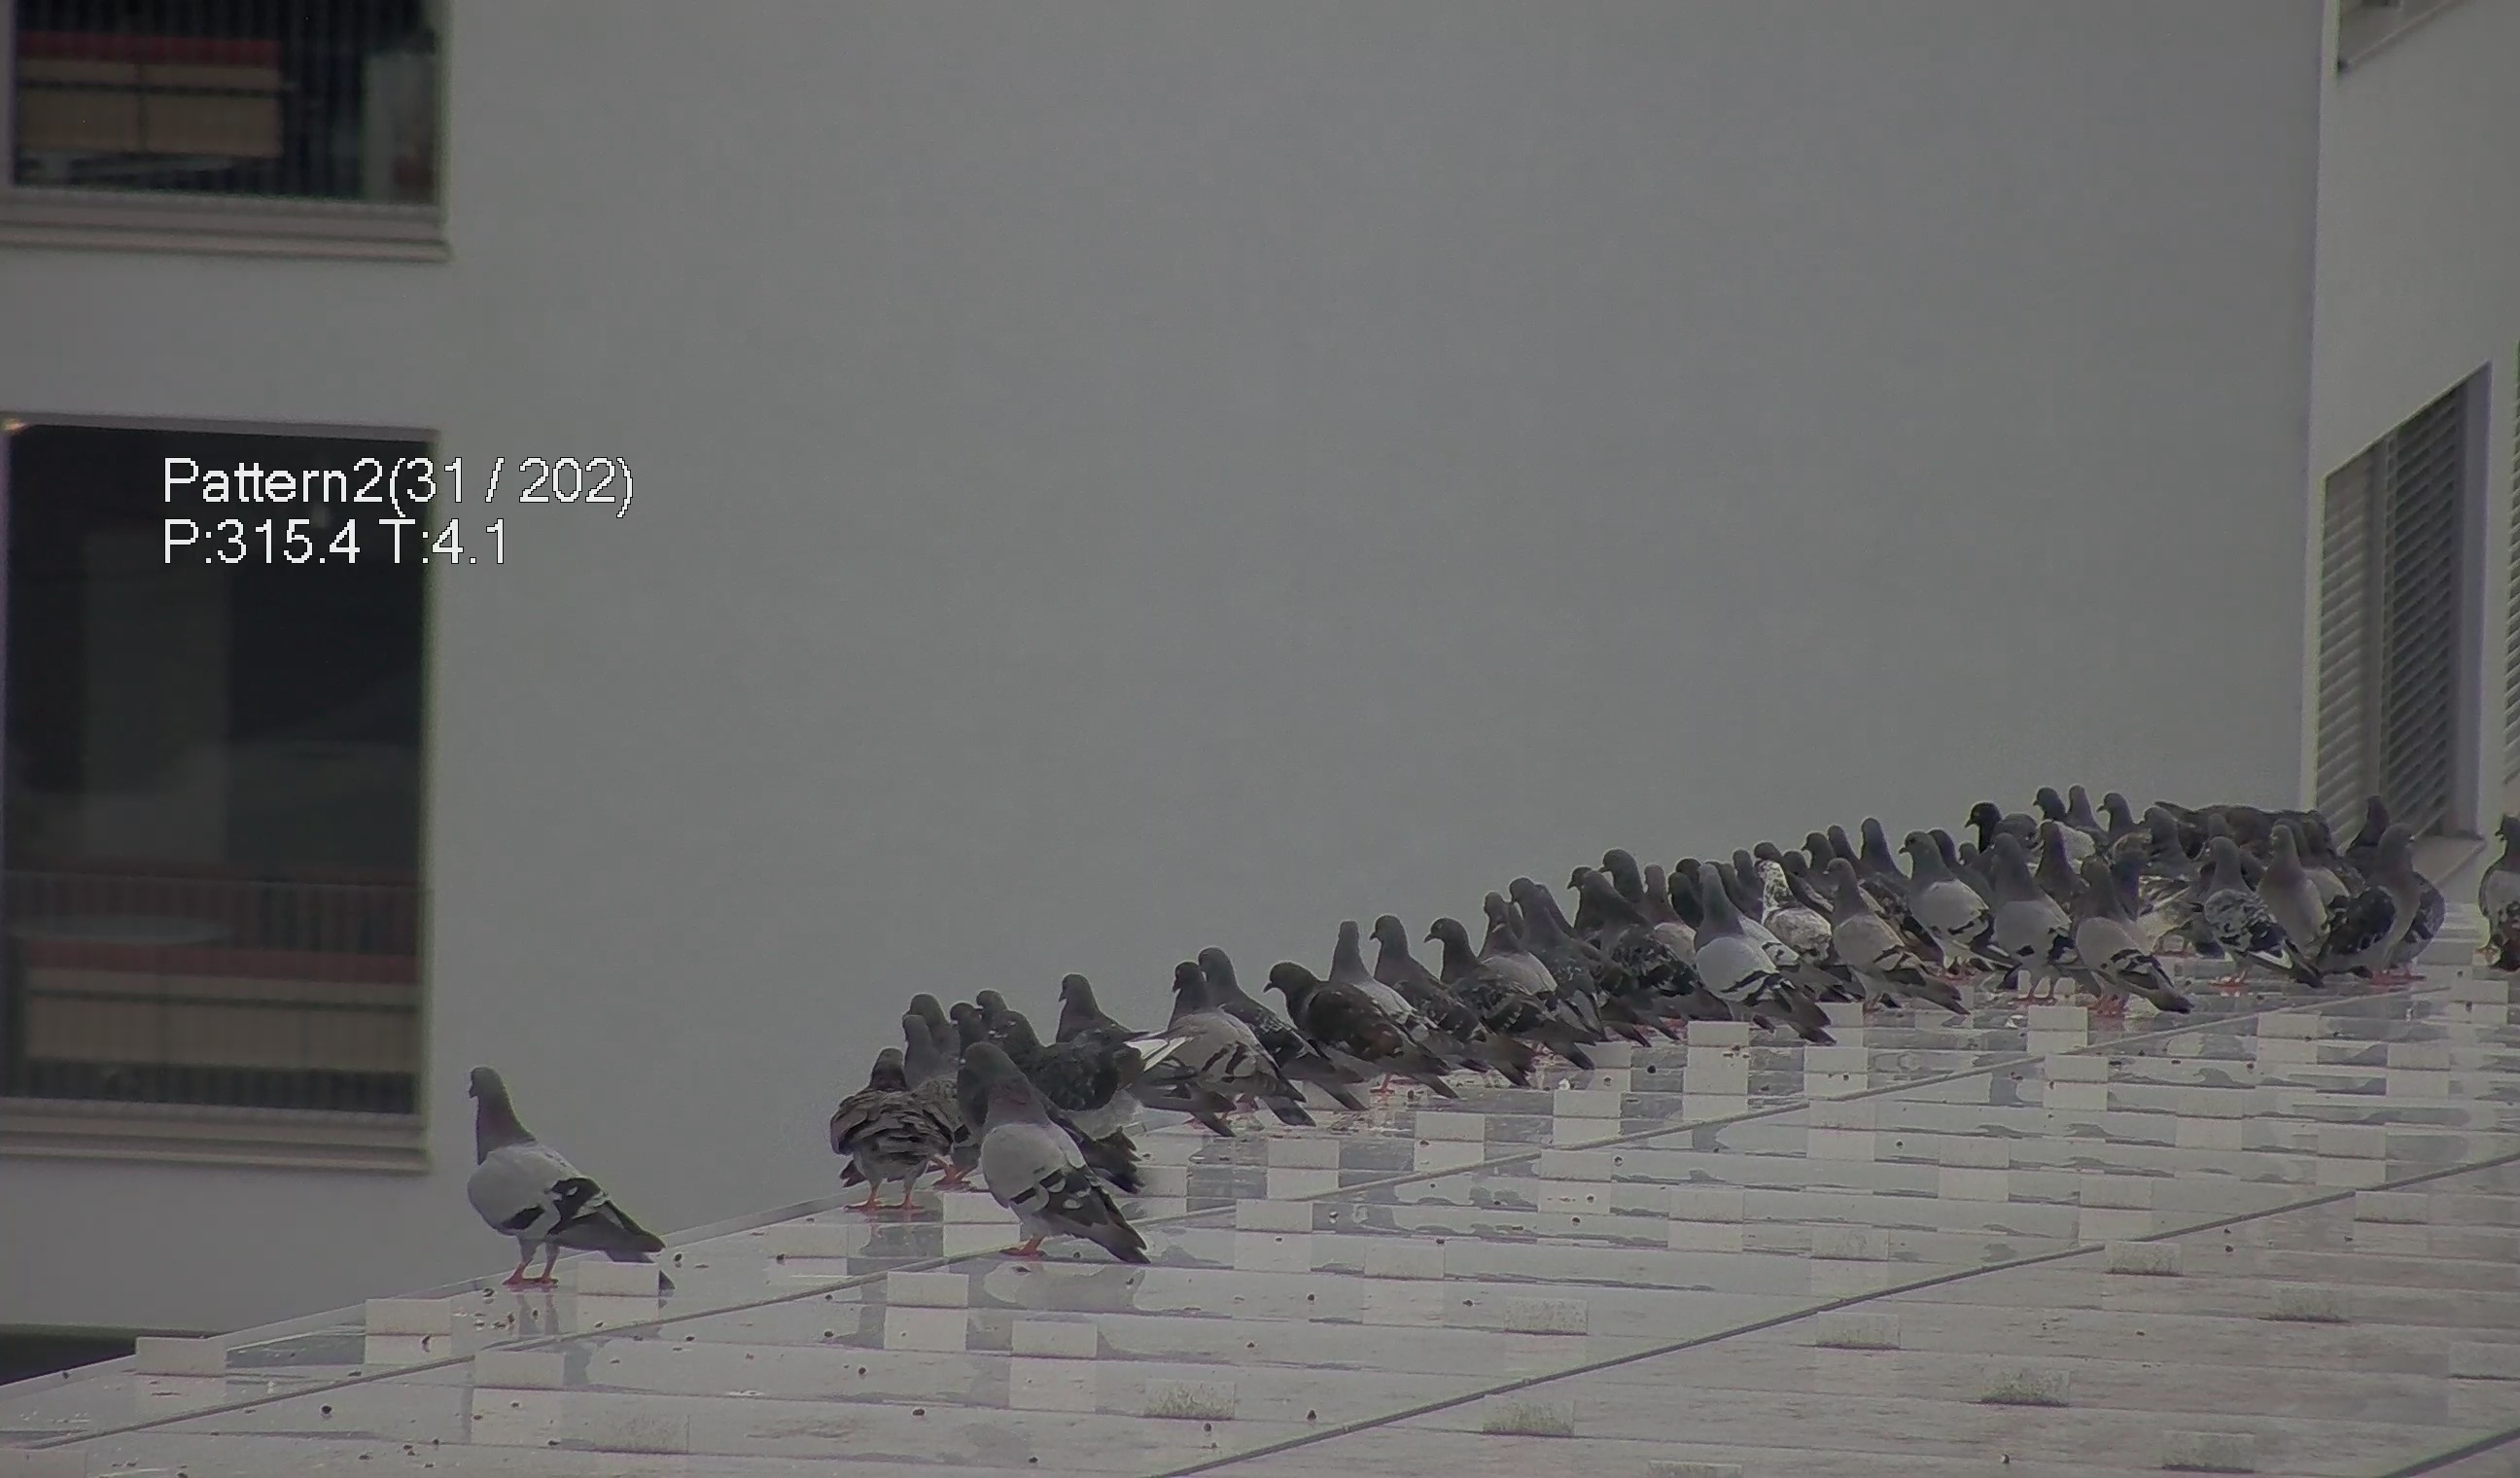Pigeon: (431, 1065, 659, 1288), (946, 1017, 1155, 1258), (955, 1001, 1157, 1182), (1321, 913, 1497, 1079), (1162, 957, 1319, 1140), (1426, 904, 1597, 1072), (1683, 864, 1832, 1054), (819, 1013, 958, 1202), (1059, 996, 1233, 1145), (1259, 957, 1442, 1096), (1824, 846, 1963, 1022), (1562, 853, 1706, 1005), (1502, 876, 1635, 1017), (2320, 809, 2422, 991), (2202, 832, 2302, 996), (897, 980, 1008, 1128), (1994, 836, 2091, 1003), (1905, 827, 2012, 977), (2075, 862, 2172, 1028), (1715, 839, 1838, 957), (2168, 772, 2254, 908), (2254, 811, 2334, 957), (2029, 772, 2145, 866), (1465, 882, 1569, 980), (2480, 792, 2520, 994), (1850, 823, 1924, 926), (1963, 795, 2022, 862)
